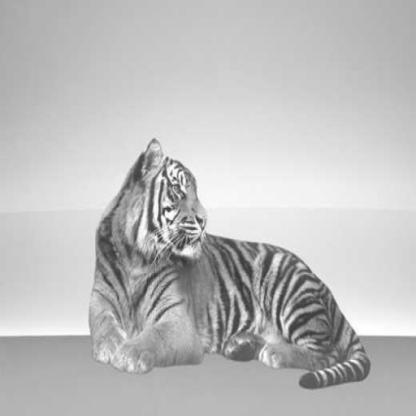Tiger: (71, 135, 385, 393)
